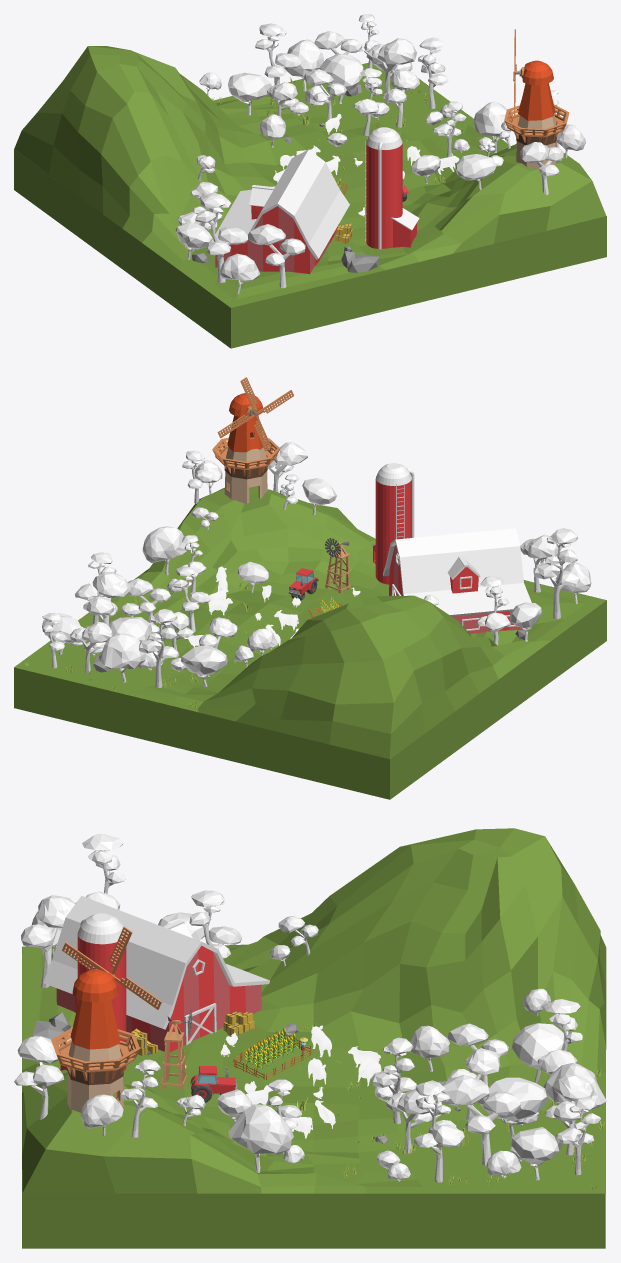
Rendered from CS299_Main.glb.
3 views of the same model, one above another, from view 1: azimuth 30°, elevation 25°; view 2: azimuth 150°, elevation 25°; view 3: azimuth 270°, elevation 25° (orthographic). The views are drawn at different scales.
Parts seen in each view (by area): view 1: Field, Object_28, Object_31, Windmill_Windmill Top_0, Tree 19, Object_10, Tree 18, Tree 2, Object_14, Windmill_Windmill Base_0, Tree 4, Tree 22 (+21 smaller); view 2: Field, Object_28, Object_31, Windmill_Windmill Base_0, Tree 19, Windmill_Windmill Top_0, Tree 13, Tree 4, Tree 5, Tree 2, Windmill_Windmill Bottom_0, Tree 23 (+17 smaller); view 3: Field, Object_28, Object_31, Windmill_Windmill Base_0, Windmill_Windmill Top_0, Object_14, Tree 2, Tree 5, Tree 7, Tree 16, Tree 18, Windmill_Windmill Bottom_0 (+27 smaller).
Part boxes in pixels (left/top/right/bottom): Field: left=14, top=46, right=606, bottom=348; Object_28: left=211, top=137, right=367, bottom=259; Object_31: left=231, top=143, right=416, bottom=274; Windmill_Windmill Top_0: left=518, top=60, right=554, bottom=120; Tree 19: left=195, top=192, right=247, bottom=282; Object_10: left=366, top=127, right=419, bottom=249; Tree 18: left=248, top=224, right=305, bottom=288; Tree 2: left=366, top=38, right=416, bottom=102; Object_14: left=215, top=207, right=339, bottom=273; Windmill_Windmill Base_0: left=504, top=29, right=569, bottom=143; Tree 4: left=255, top=23, right=300, bottom=102; Tree 22: left=319, top=54, right=363, bottom=103; Field: left=14, top=486, right=606, bottom=799; Object_28: left=383, top=483, right=531, bottom=630; Object_31: left=373, top=479, right=509, bottom=631; Windmill_Windmill Base_0: left=212, top=377, right=293, bottom=498; Tree 19: left=533, top=528, right=580, bottom=619; Windmill_Windmill Top_0: left=227, top=393, right=264, bottom=452; Tree 13: left=99, top=633, right=145, bottom=682; Tree 4: left=139, top=609, right=178, bottom=687; Tree 5: left=142, top=526, right=188, bottom=575; Tree 2: left=83, top=572, right=130, bottom=625; Windmill_Windmill Bottom_0: left=224, top=447, right=267, bottom=503; Tree 23: left=181, top=645, right=227, bottom=686; Field: left=22, top=828, right=606, bottom=1248; Object_28: left=43, top=896, right=269, bottom=1045; Object_31: left=60, top=935, right=245, bottom=1070; Windmill_Windmill Base_0: left=51, top=926, right=161, bottom=1101; Windmill_Windmill Top_0: left=70, top=969, right=120, bottom=1049; Object_14: left=56, top=951, right=261, bottom=1051; Tree 2: left=441, top=1074, right=520, bottom=1165; Tree 5: left=228, top=1104, right=293, bottom=1172; Tree 7: left=413, top=1080, right=464, bottom=1182; Tree 16: left=14, top=1035, right=64, bottom=1120; Tree 18: left=21, top=895, right=75, bottom=988; Windmill_Windmill Bottom_0: left=67, top=1041, right=123, bottom=1112.
Size of the model in its own units: 167 by 88.57 by 166.
